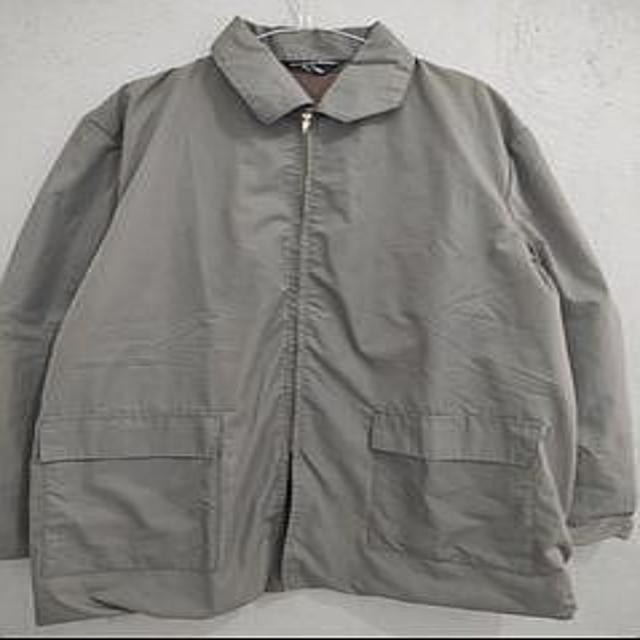SHIRT: (2, 19, 640, 626)
